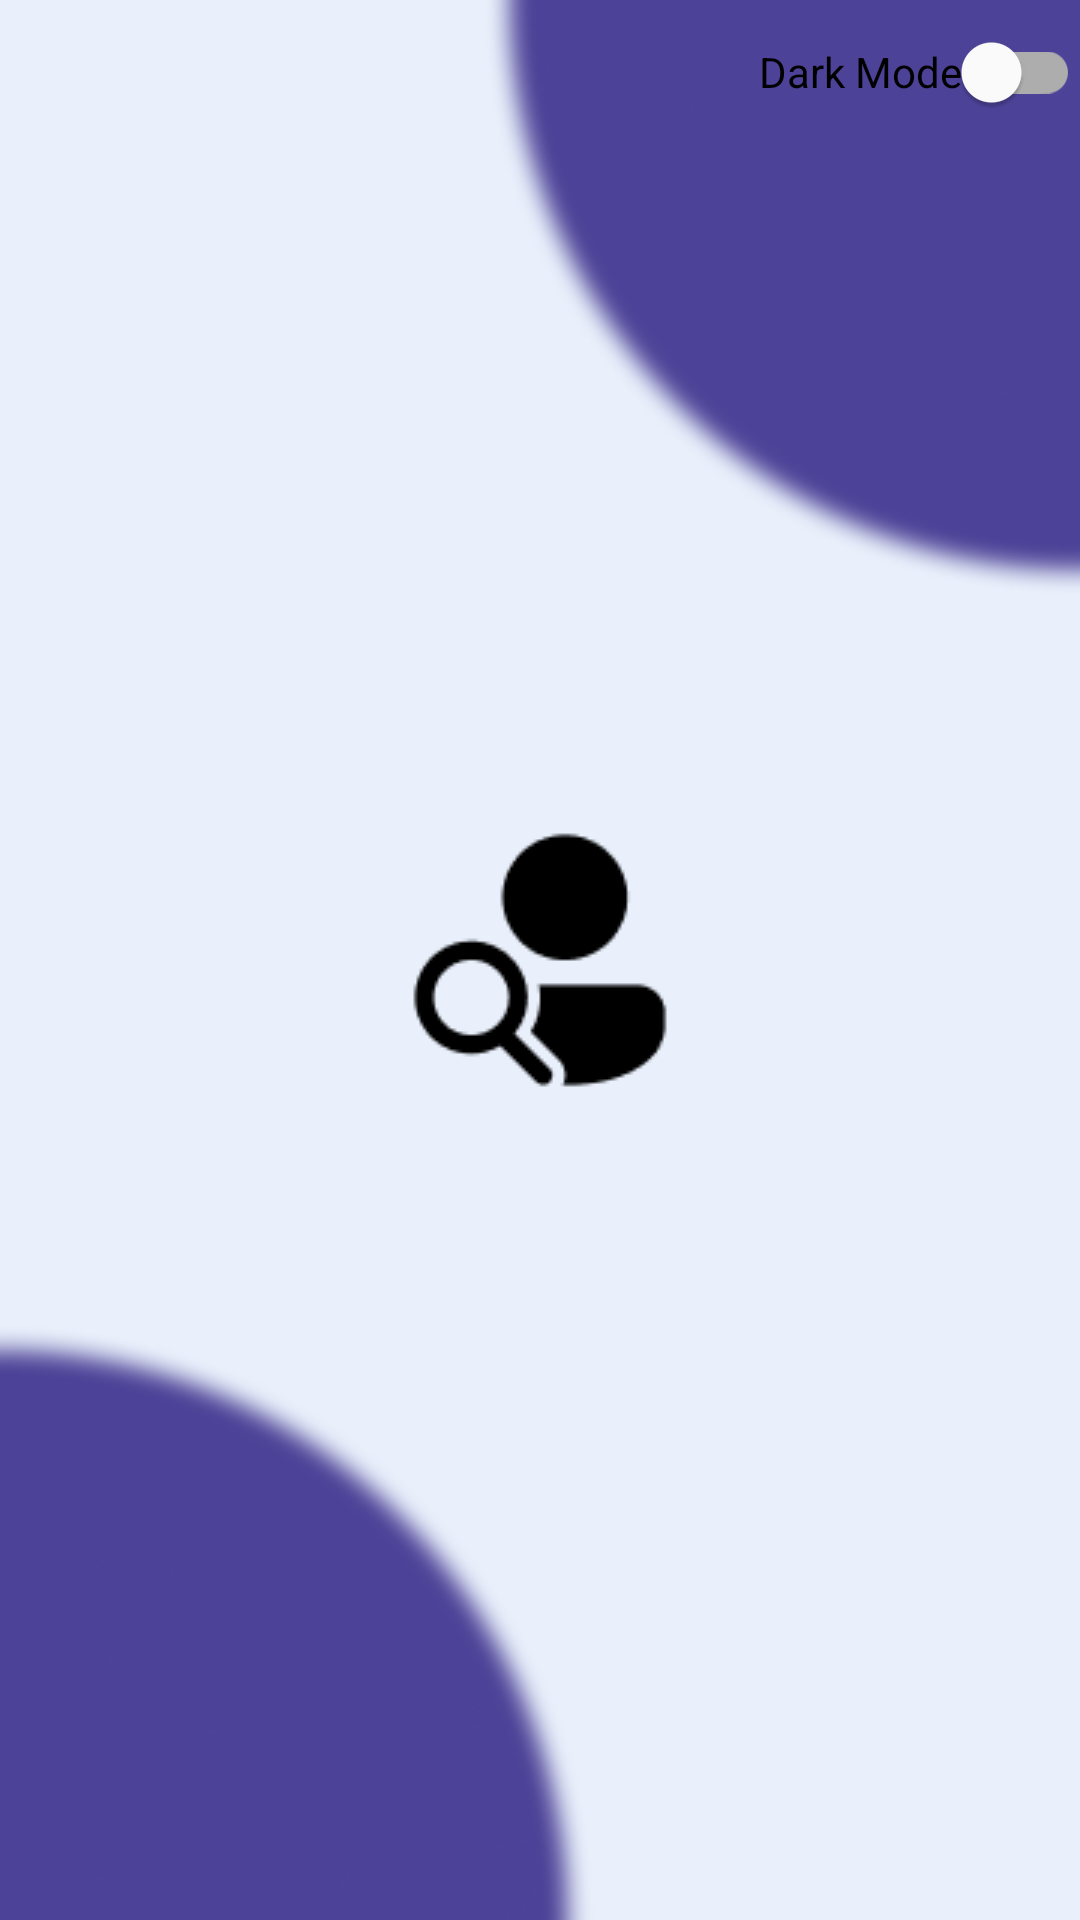

Named icons in this screenshot (1080 x 1920) and their centers, (x=x, y=y):
search people: (x=540, y=960)
